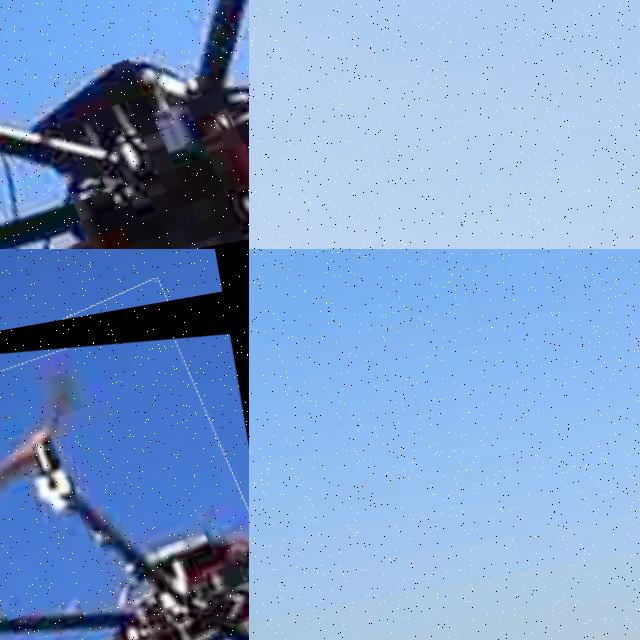drone: (0, 290, 249, 640), (0, 0, 249, 249)
